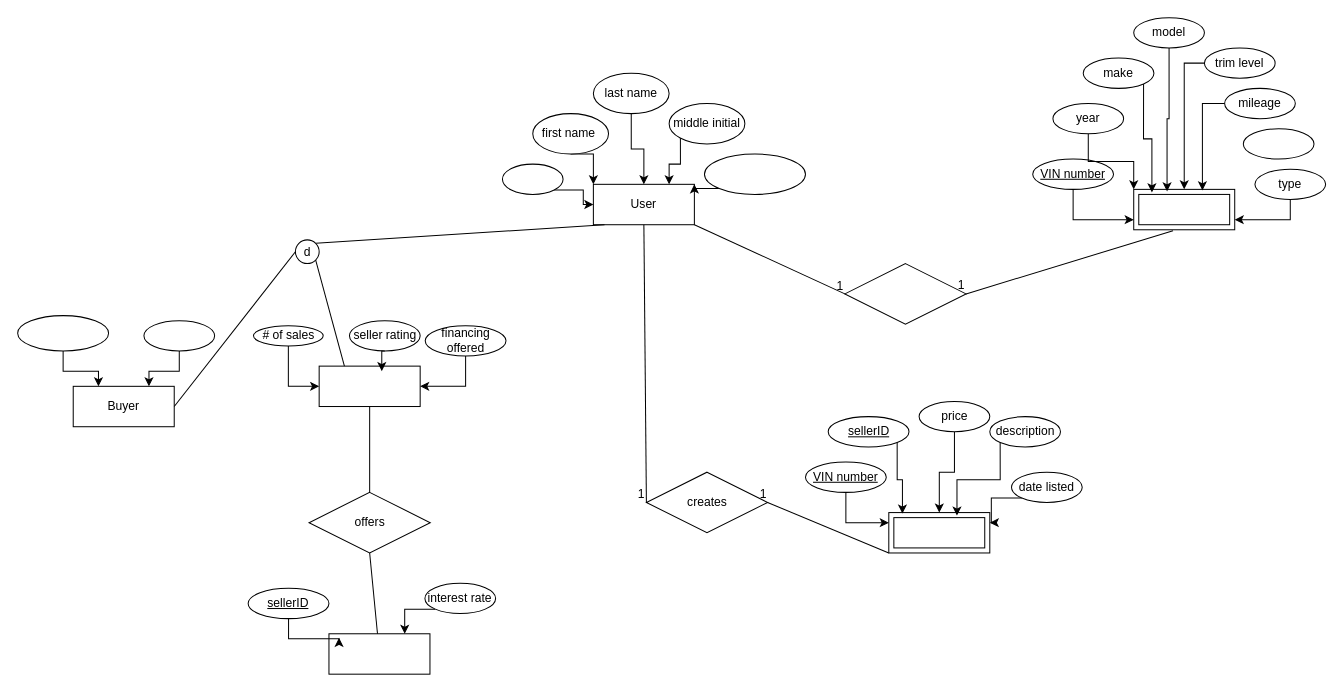
Image size: 1343x692. Some labels were removed from this diagram. Each missing label, with the box of its shape:
# of purchases: (17, 315, 109, 351)
buyer rating: (143, 320, 215, 351)
color: (1242, 128, 1314, 159)
Financing: (328, 633, 430, 674)
Listing: (888, 512, 990, 553)
lists: (844, 263, 966, 324)
Seller: (318, 365, 420, 407)
userID: (703, 153, 805, 194)
username: (501, 163, 563, 194)
Vehicle: (1133, 188, 1235, 230)
